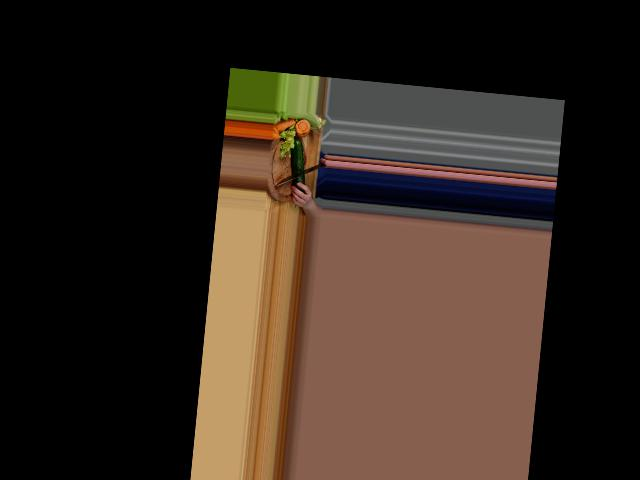cucumber: (287, 137, 309, 192)
